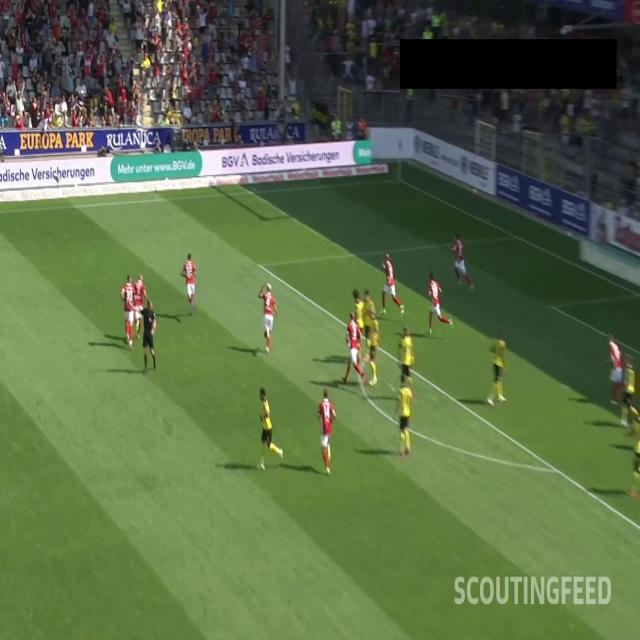player: (120, 271, 136, 353), (132, 271, 148, 340)
